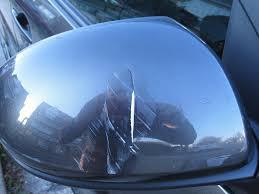Sidemirror-Damage: (13, 0, 257, 189)
